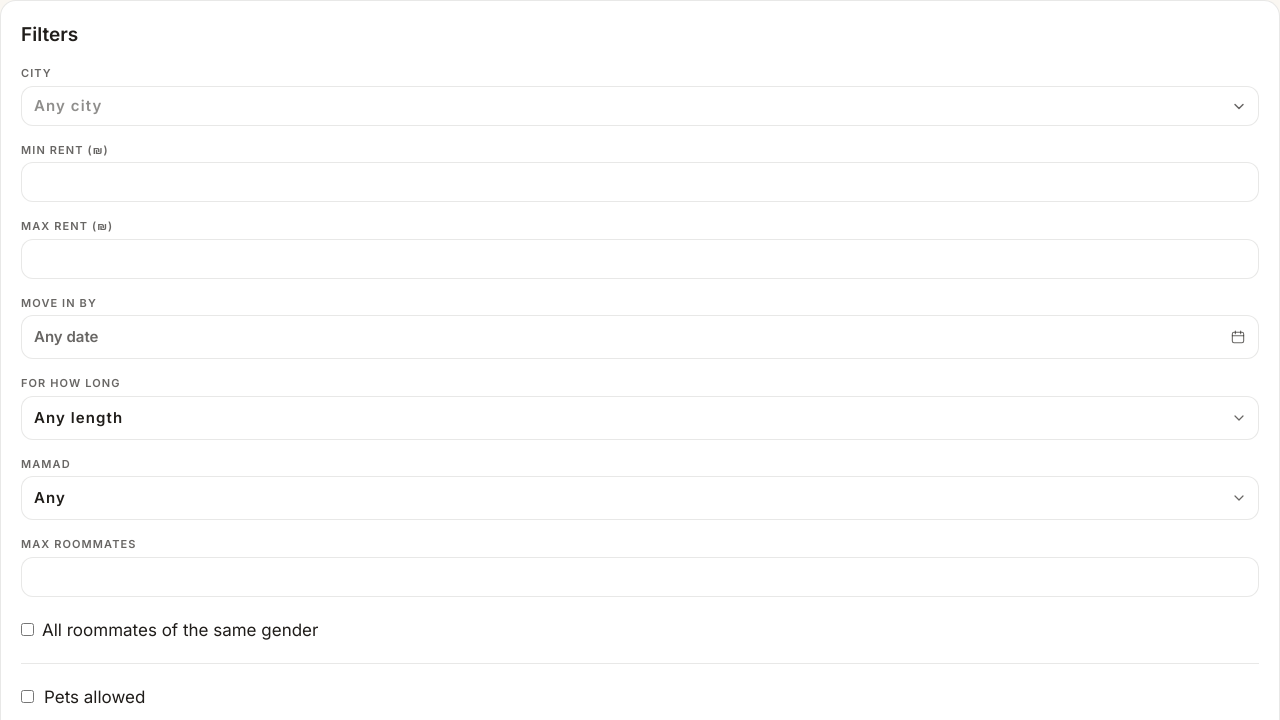
Scenario: the tick offers exactly two genders, male first
Click the checkbox labelled "All roommates of the same gender". click: point(28, 630)
box: top-left (21, 623), bottom-right (34, 636)
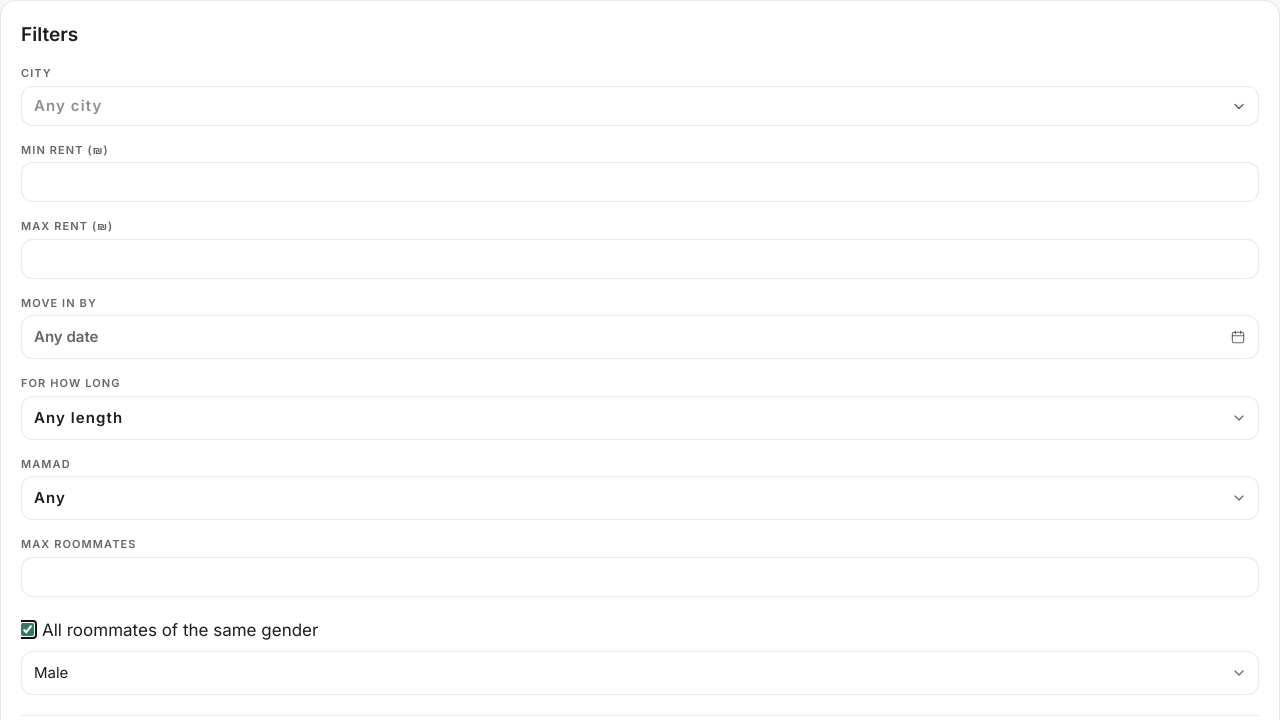
Expected: the dropdown named "which gender" shows "Male", top-left (21, 650), bottom-right (1259, 694)
